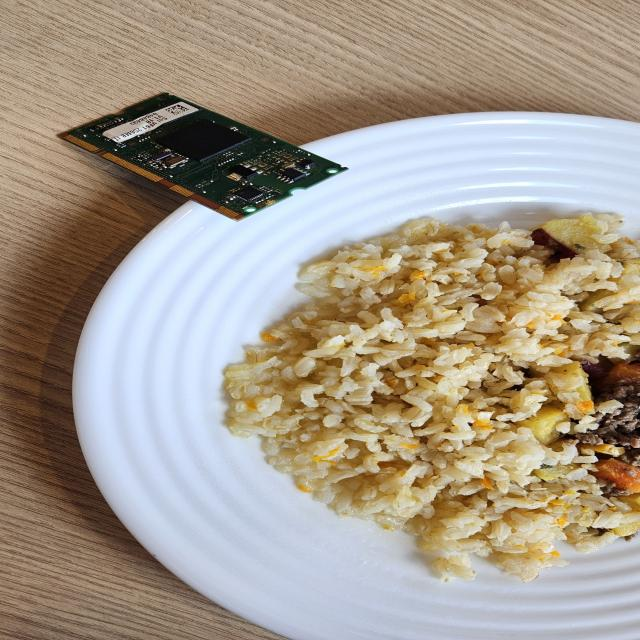som: (57, 85, 357, 227)
